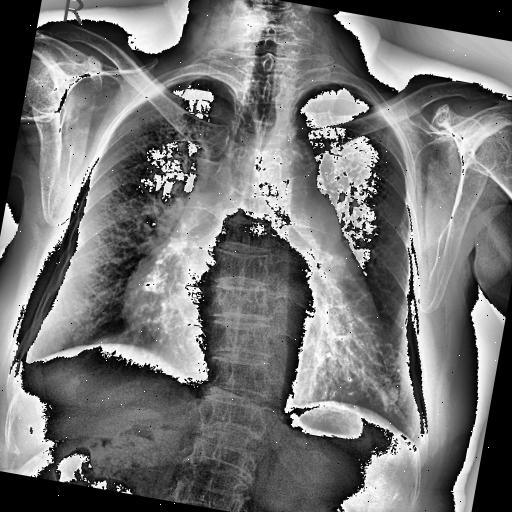3- Cardiomegaly: (108, 236, 406, 406), (102, 267, 392, 435), (106, 263, 407, 417)
